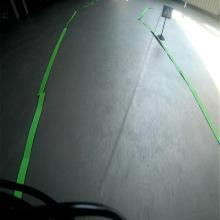crosswalk: (161, 4, 173, 20)
